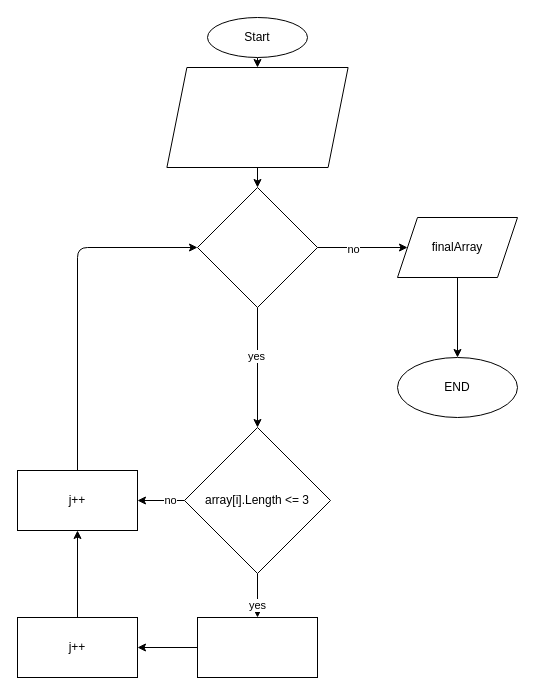
Some shapes in this 535 by 695 pixel diagram are drawn without their labels. Each missing label, with the box of its shape:
i < array.Lenght: (196, 186, 318, 308)
new array[j] = array[i]: (196, 616, 318, 678)
string[] array string[] newArray int i = 0 int j = 0: (166, 66, 348, 168)
